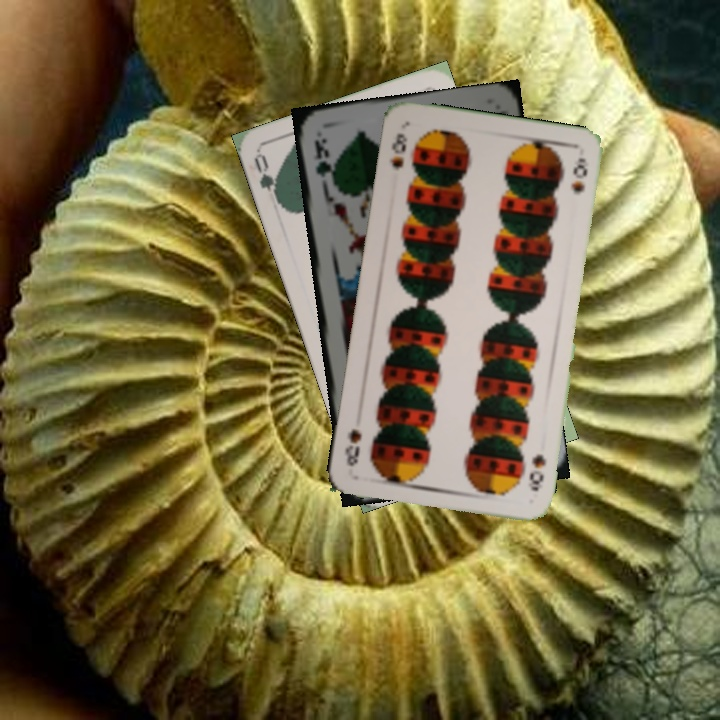GK: (310, 134, 336, 189)
GO: (250, 150, 284, 208)
S8: (525, 450, 549, 494), (386, 129, 410, 172)
